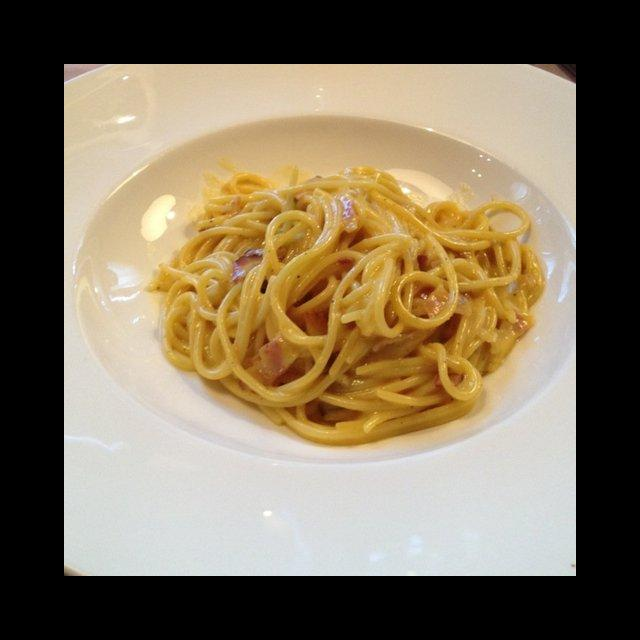noodles: (144, 160, 544, 448)
